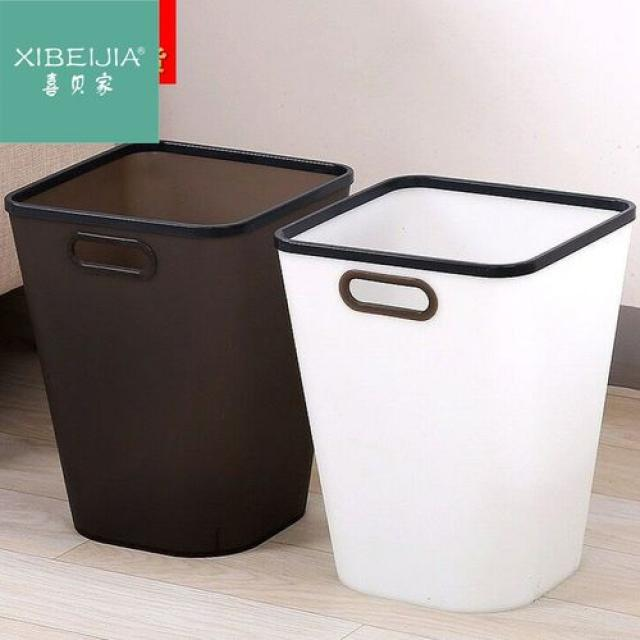dustbin: (269, 169, 640, 619), (3, 129, 358, 563)
